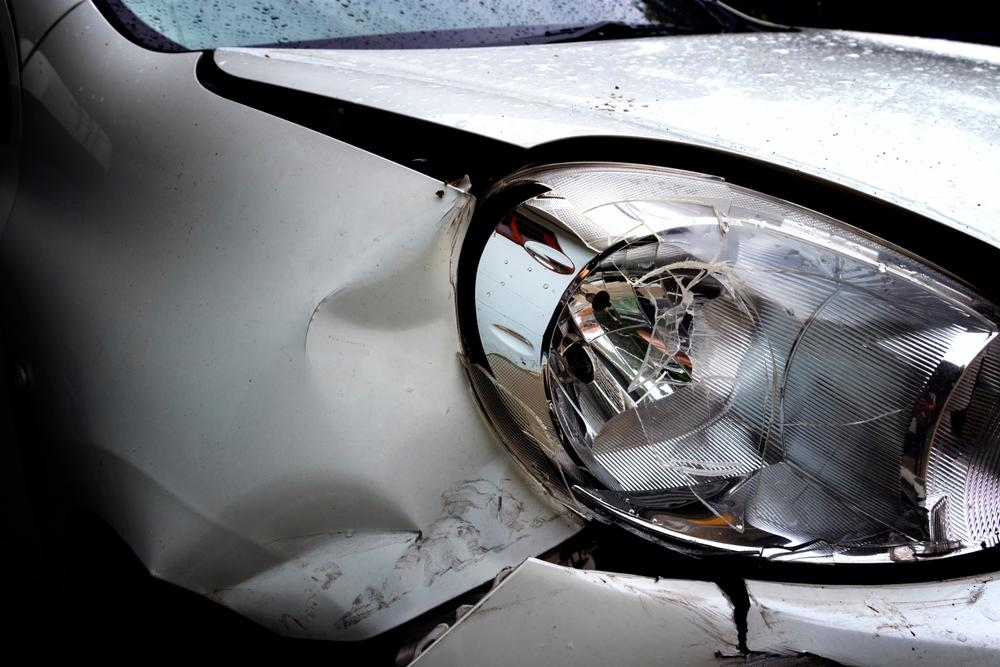crack: (712, 580, 850, 667)
dent: (181, 197, 582, 640)
lamp broken: (451, 153, 1000, 565)
